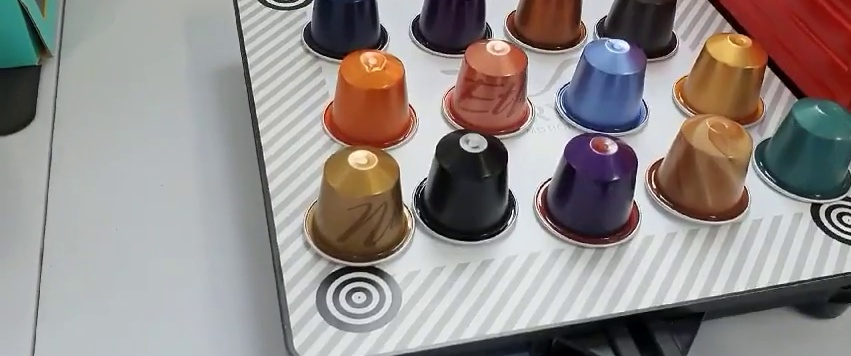capsule_1: (299, 1, 388, 61)
capsule_10: (412, 126, 520, 247)
capsule_11: (535, 130, 644, 249)
capsule_12: (644, 111, 757, 228)
capsule_13: (753, 96, 851, 205)
capsule_2: (409, 1, 498, 49)
capsule_3: (503, 1, 590, 57)
capsule_4: (598, 1, 685, 59)
capsule_5: (322, 47, 419, 149)
capsule_6: (440, 40, 538, 140)
capsule_7: (550, 34, 653, 136)
capsule_8: (671, 31, 767, 124)
capsule_9: (304, 144, 418, 267)
